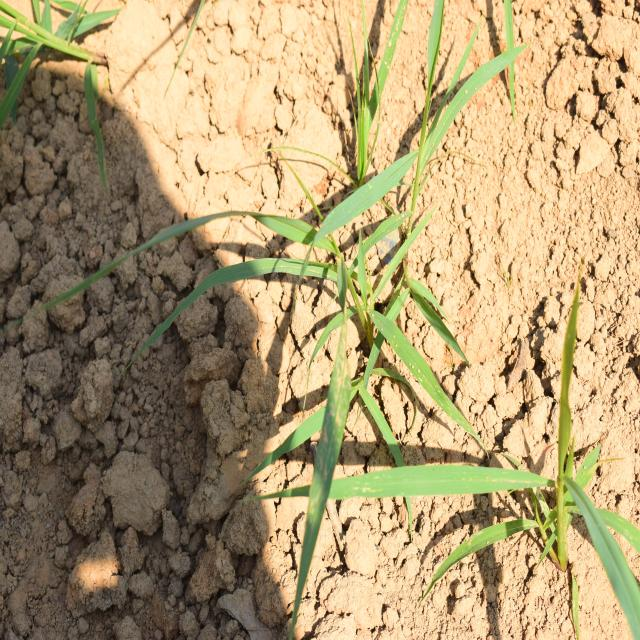green_foxtail: (124, 165, 453, 461), (318, 377, 640, 626)
